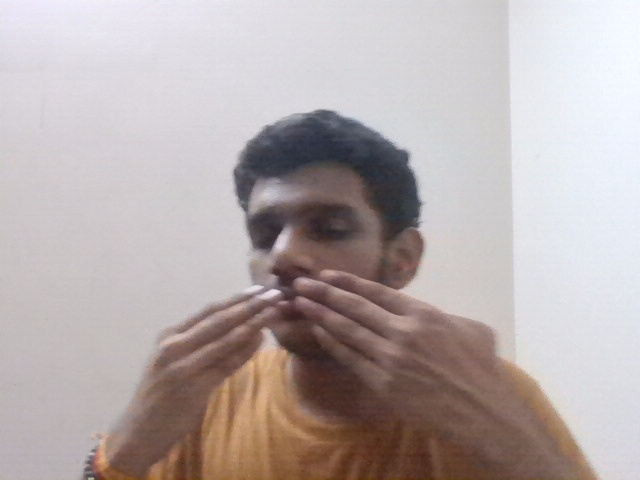thanks: (130, 271, 509, 430)
